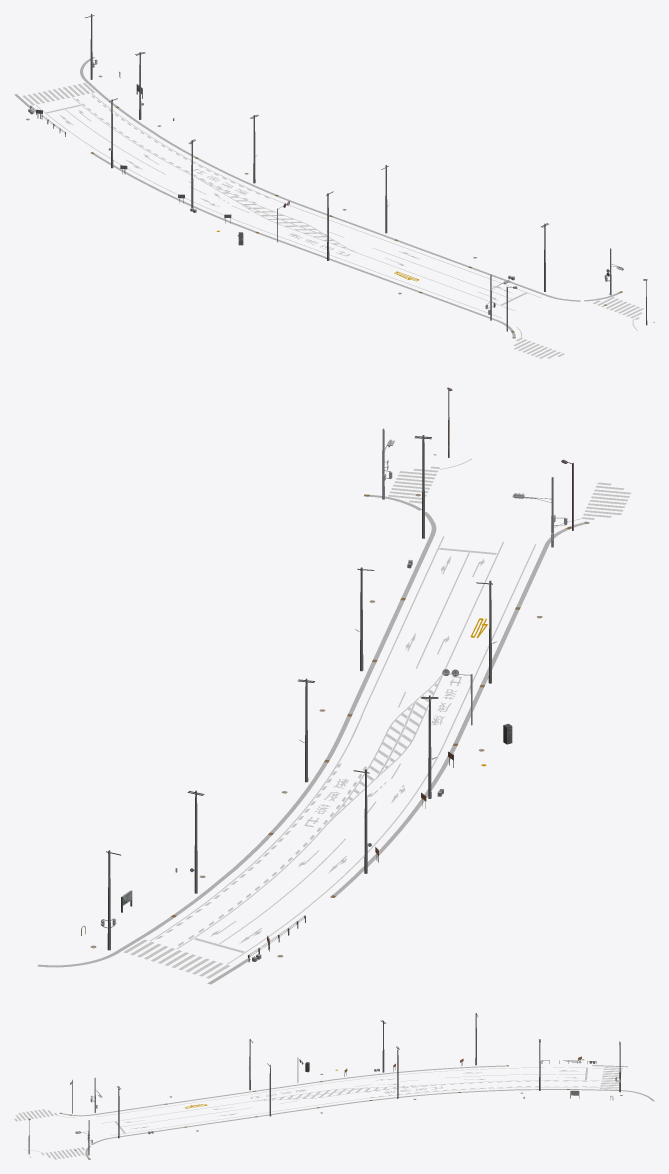
Rendered from frn--7.glb.
3 renders of one model, top to bottom at view 1: azimuth 30°, elevation 25°; view 2: azimuth 150°, elevation 25°; view 3: azimuth 270°, elevation 25°, orthographic. The views are drawn at different scales.
Size of the model in its own units: 51.06 by 12.48 by 137.
Materials: 2 (1 with a texture image).
